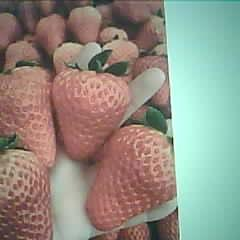straw-ripe: (85, 122, 177, 230), (55, 69, 130, 161), (0, 144, 54, 240), (0, 64, 52, 160)
